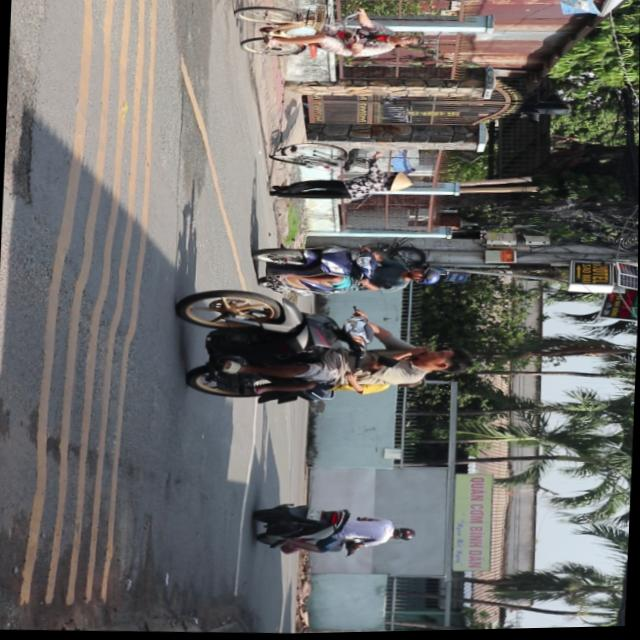helmet: (418, 345, 476, 374), (406, 265, 442, 285)
licenseplate: (251, 238, 445, 301)
motorcyclist: (174, 281, 482, 416)
